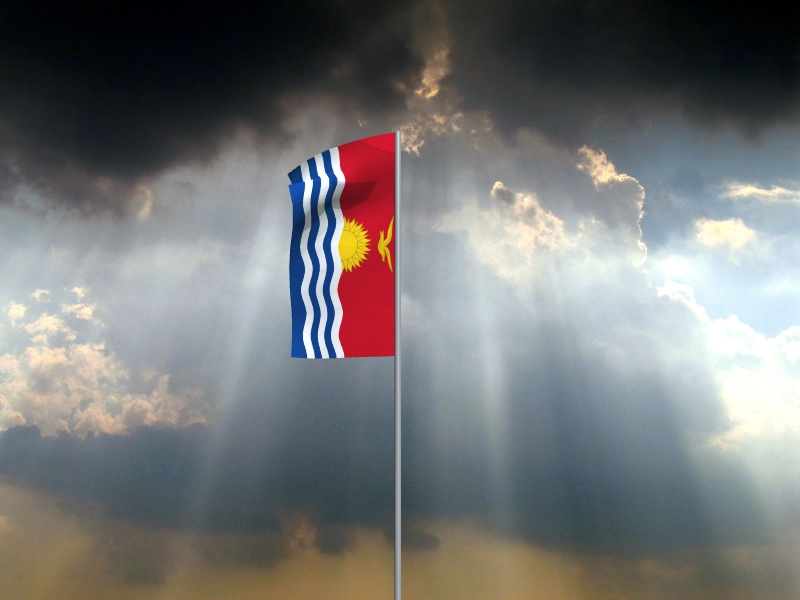ki: (287, 133, 395, 361)
